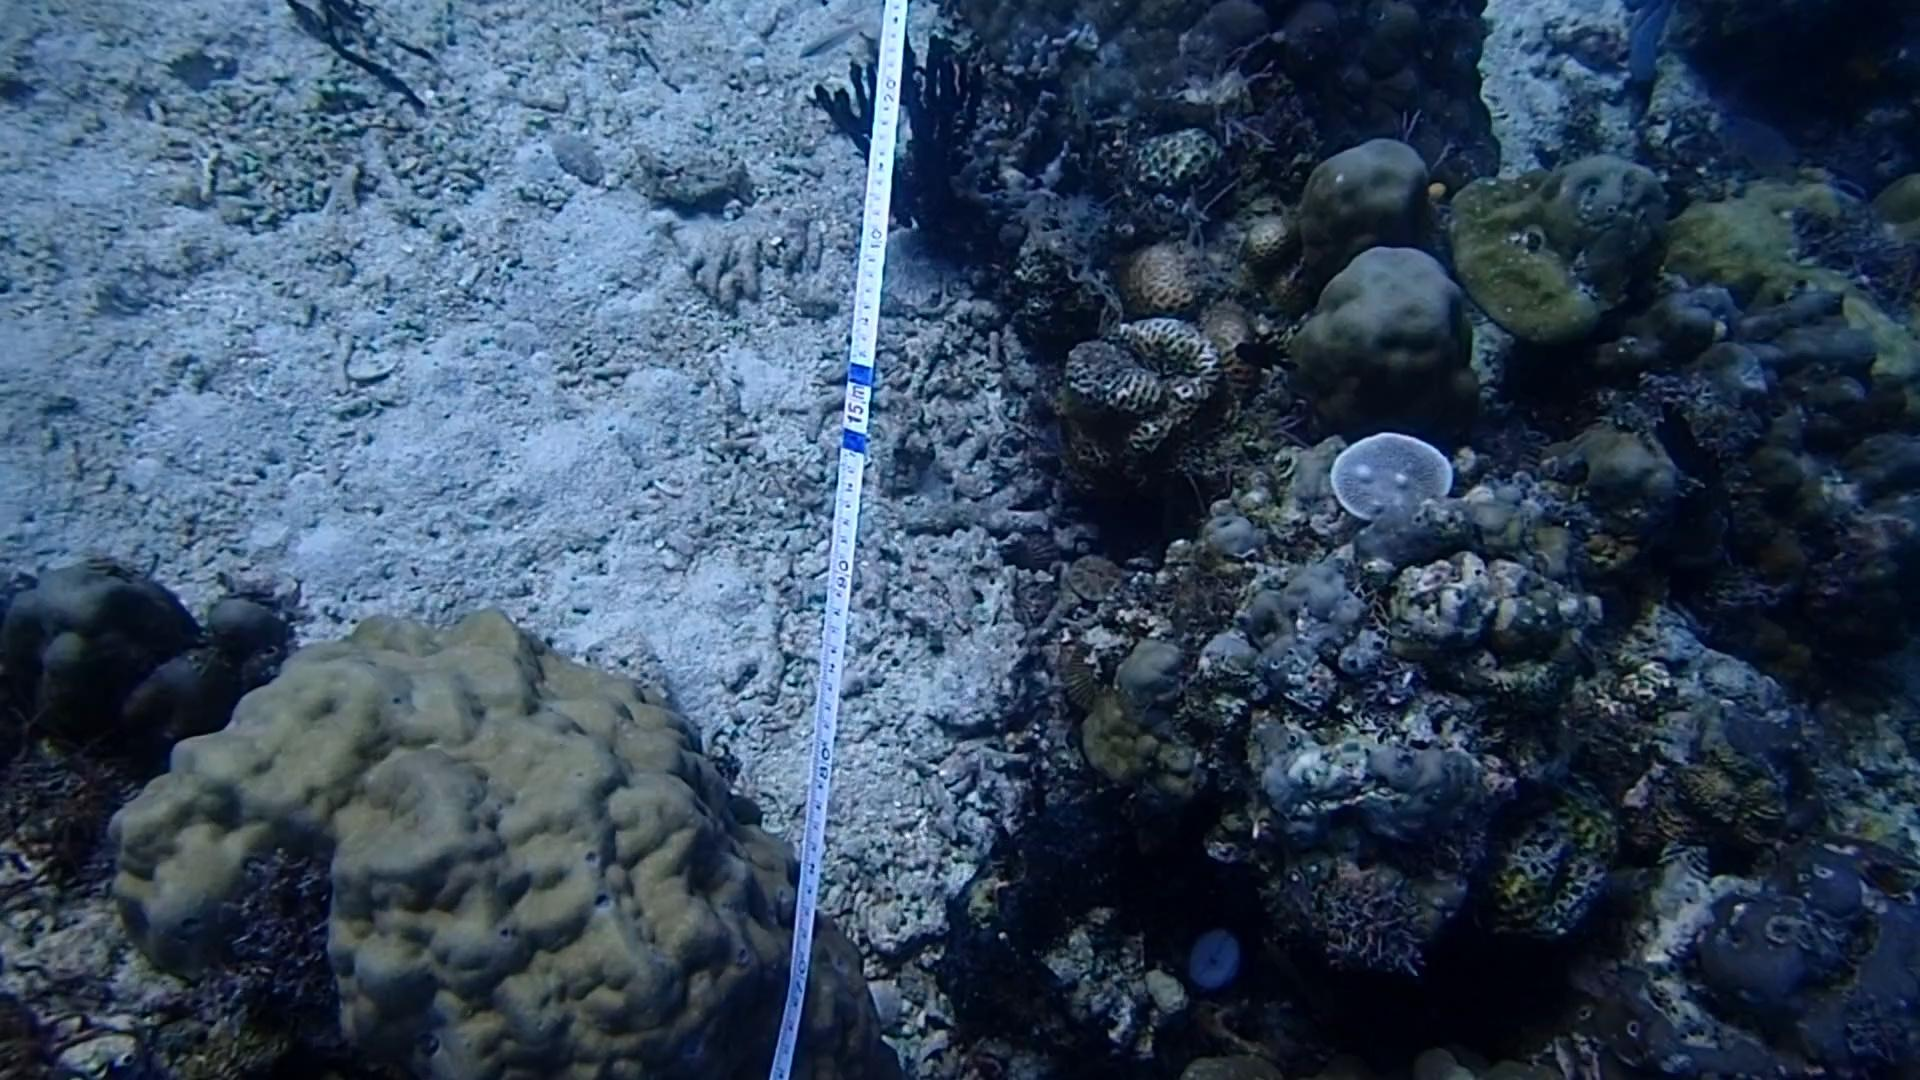Dark Fish: (1648, 384, 1710, 483), (1230, 330, 1305, 389)
